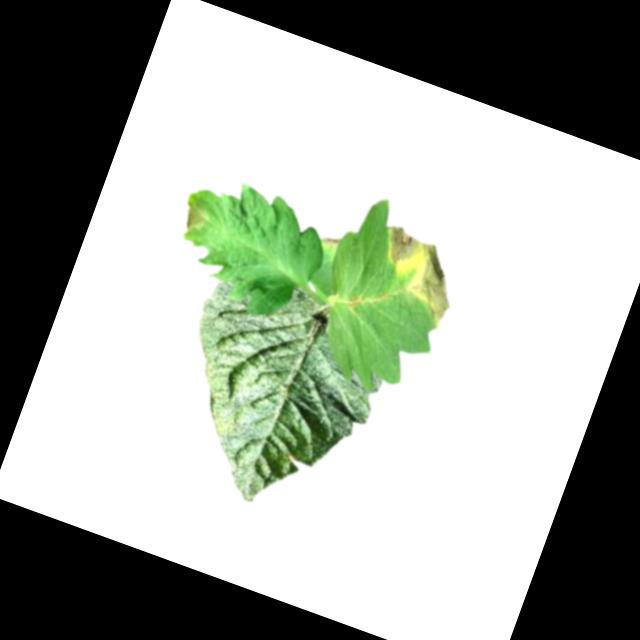Late_blight: (361, 222, 470, 331), (177, 199, 213, 241), (322, 234, 343, 249)
